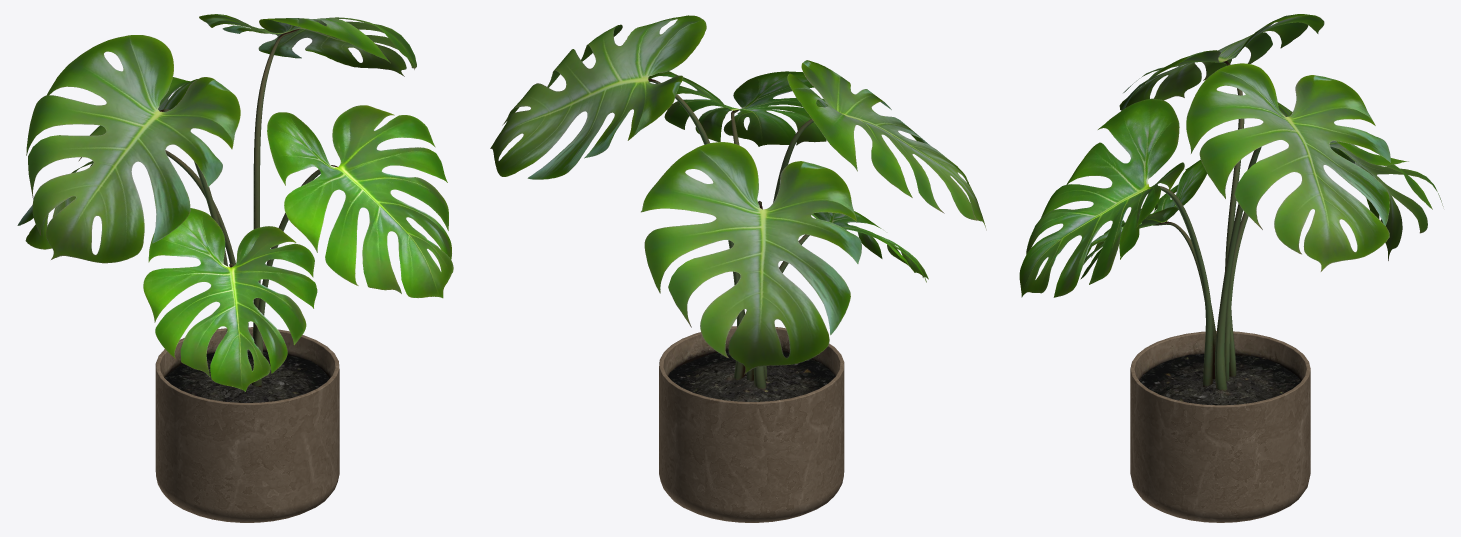
File: monstera_pot.glb
3 views of the same model, side by side, from view 1: azimuth 30°, elevation 25°; view 2: azimuth 150°, elevation 25°; view 3: azimuth 270°, elevation 25° (orthographic). The views are drawn at different scales.
Parts seen in each view (by area): view 1: SM_MZRa_Monstera_B02; view 2: SM_MZRa_Monstera_B02; view 3: SM_MZRa_Monstera_B02.
Boxes of the visible parts, x1=… form: SM_MZRa_Monstera_B02: x1=17, y1=14, x2=453, y2=522; SM_MZRa_Monstera_B02: x1=490, y1=15, x2=986, y2=522; SM_MZRa_Monstera_B02: x1=1019, y1=14, x2=1443, y2=522.
Size of the model in its own units: 1.55 by 1.58 by 1.37.
Materials: 2 (2 with a texture image).
